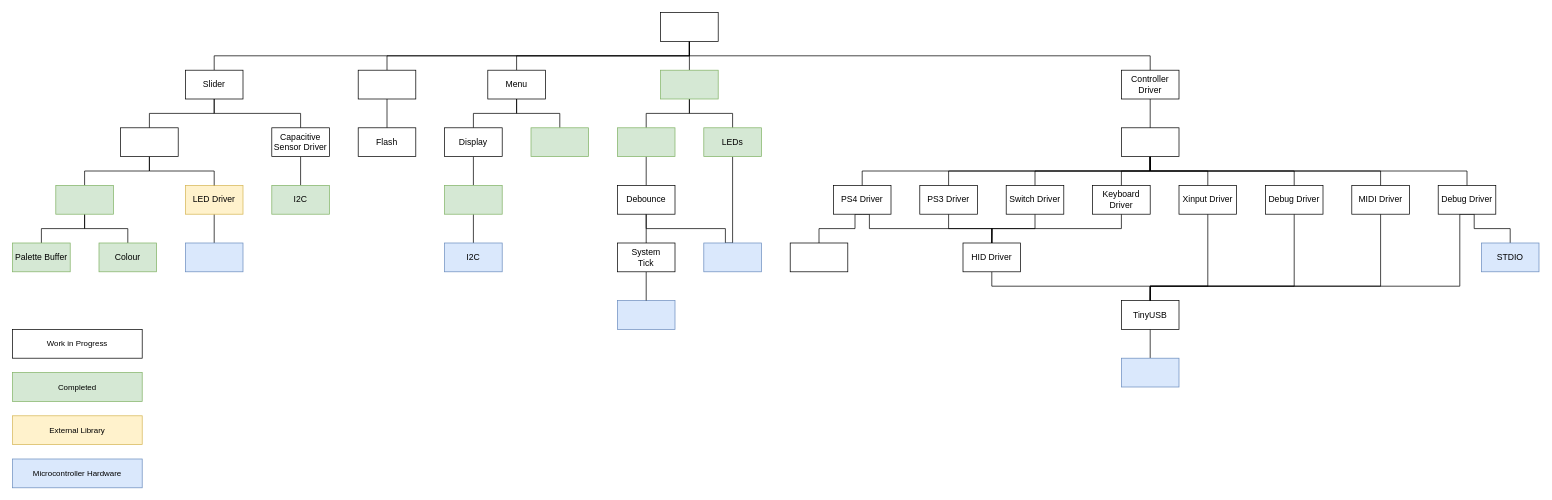
Image size: 1552x500. Some labels were removed from this diagram. The box of each missing label's shape, as (x1, y1, x2, y2) in pixels:
Animation: (55, 185, 113, 214)
Authentication: (789, 242, 848, 272)
BPM Counter: (530, 127, 589, 157)
Button Driver: (660, 69, 718, 99)
Buttons: (617, 127, 675, 157)
Display IC Driver: (444, 185, 502, 214)
GPIO: (703, 242, 761, 272)
Main: (660, 12, 718, 41)
PIO: (185, 242, 243, 272)
Settings: (357, 69, 416, 99)
Slider LEDs: (120, 127, 178, 157)
Timer: (617, 300, 675, 329)
USB Driver: (1121, 127, 1179, 157)
USB Peripheral: (1121, 357, 1179, 387)
